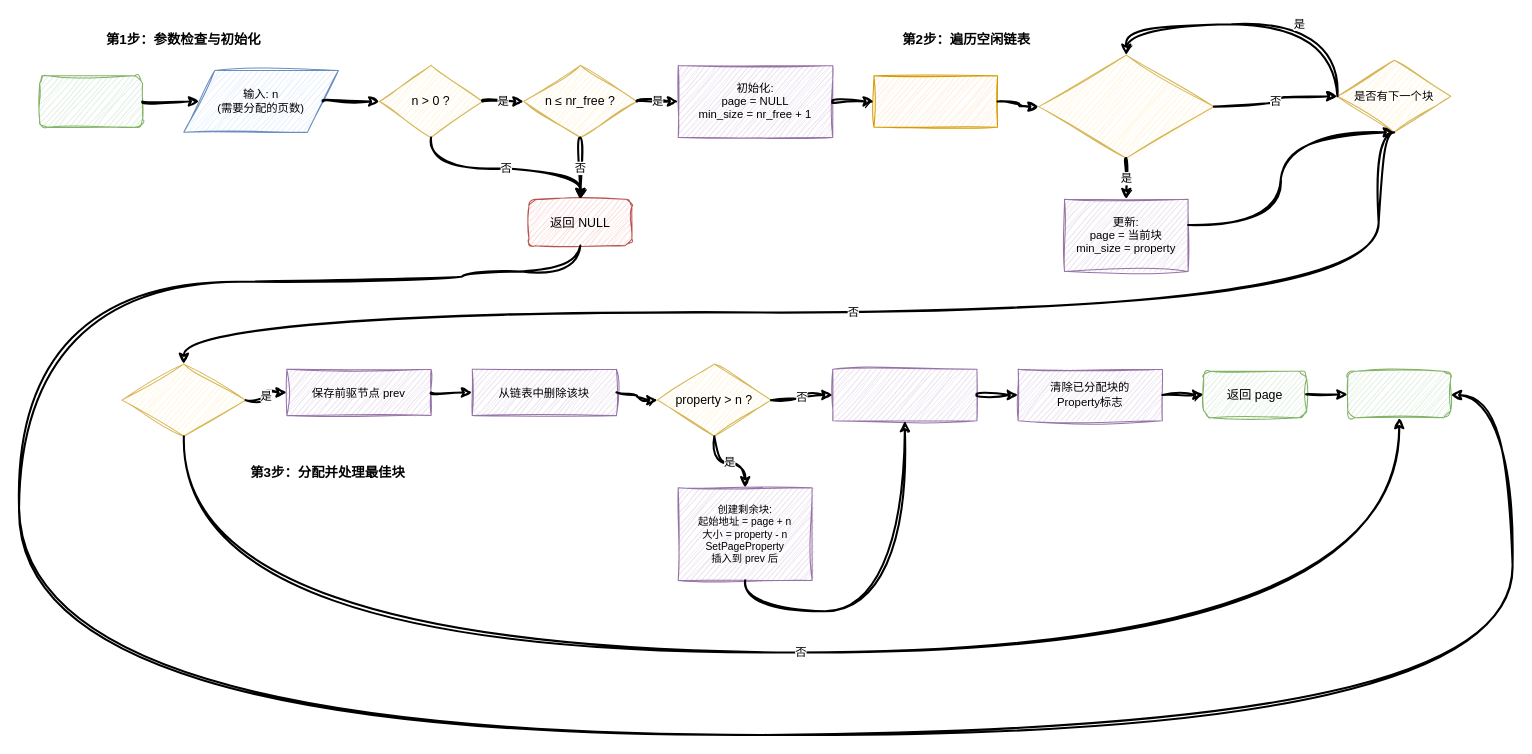
Image size: 1532x754. Some labels were removed from this diagram. The shapes that lost their labels are listed below. From the top down, each one's box as (x1, y1, x2, y2) in pixels, then its label:
(39, 75, 143, 127): 开始
(873, 75, 998, 127): 遍历空闲链表
(1038, 54, 1214, 158): property ≥ n && property < min_size ?
(121, 363, 246, 436): page != NULL ?
(832, 368, 977, 421): 更新空闲页计数: nr_free -= n
(1347, 370, 1451, 418): 结束
